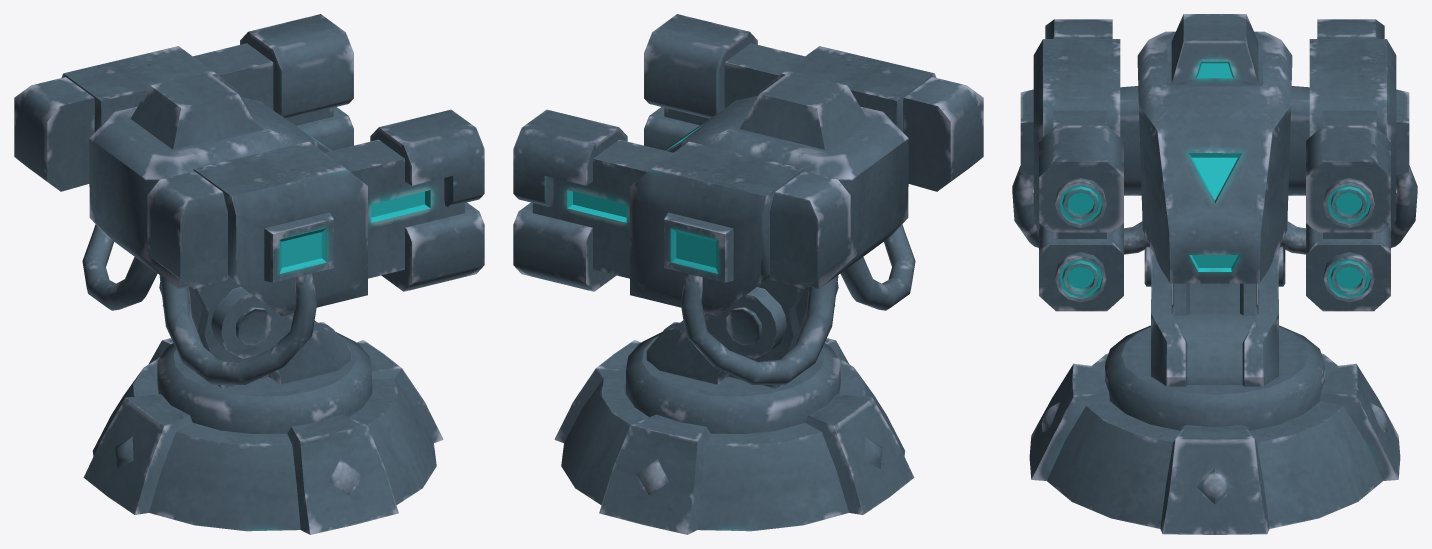
The model's file is tower_t2.glb.
3 views of the same model, side by side, from view 1: azimuth 30°, elevation 25°; view 2: azimuth 150°, elevation 25°; view 3: azimuth 270°, elevation 25° (orthographic). The views are drawn at different scales.
Visible parts, largest first — view 1: Object_2; view 2: Object_2; view 3: Object_2.
Part boxes in pixels (x1,y1,x2,y2): Object_2: (14, 14, 484, 534); Object_2: (513, 14, 983, 534); Object_2: (1012, 14, 1417, 534).
Size of the model in its own units: 106 by 122 by 113.
1 material, 1 textured.
